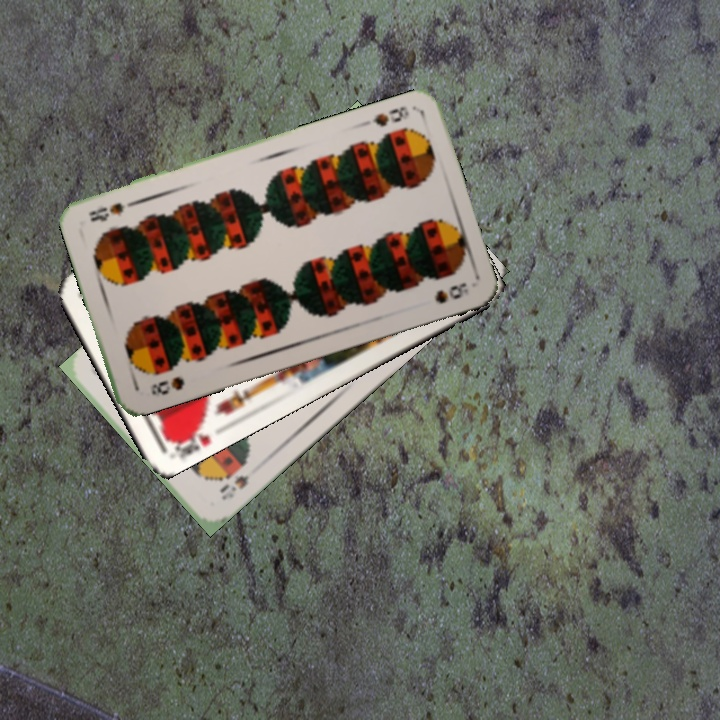HK: (164, 418, 214, 462)
S8: (368, 102, 412, 130), (146, 372, 187, 398)
SO: (215, 457, 252, 503)
